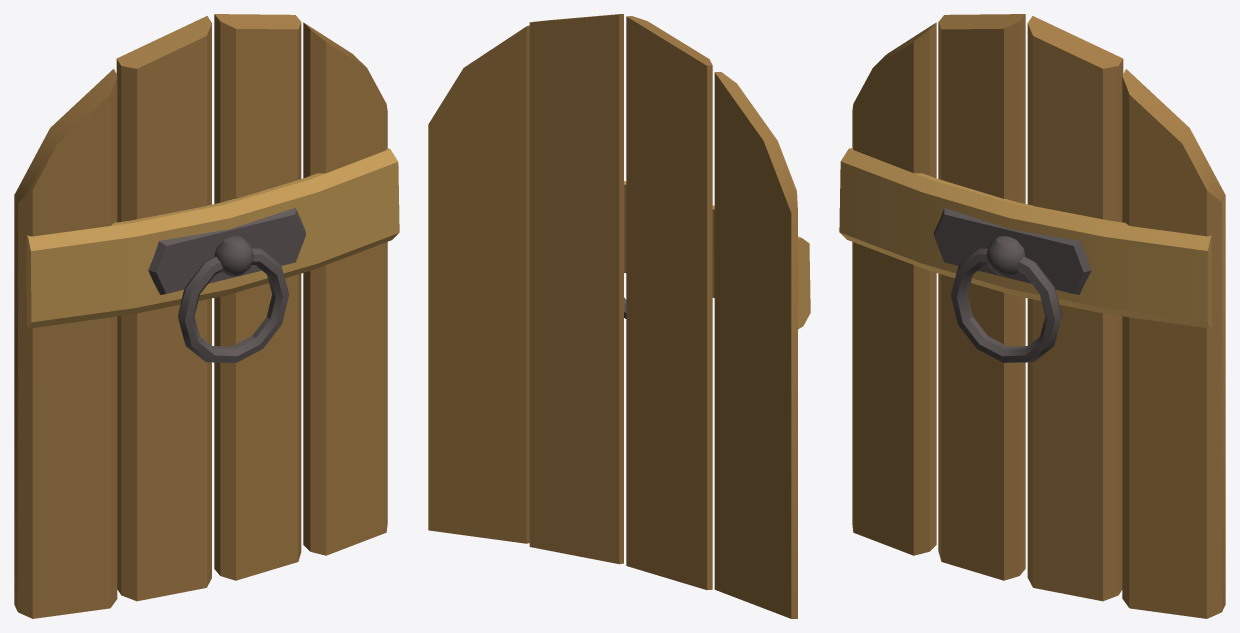
The model's file is Tower_Door.fbx.
The picture shows the model from 3 angles, left to right: view 1: azimuth 30°, elevation 25°; view 2: azimuth 150°, elevation 25°; view 3: azimuth 330°, elevation 25°; orthographic projection.
Visible parts, largest first — view 1: Tower_Door; view 2: Tower_Door; view 3: Tower_Door.
Boxes of the visible parts, x1,y1,x2,y2 form: Tower_Door: (14,14,399,618); Tower_Door: (428,14,810,618); Tower_Door: (839,14,1225,618).
Bounding box in the file's own units: 148 × 215 × 31.86.
